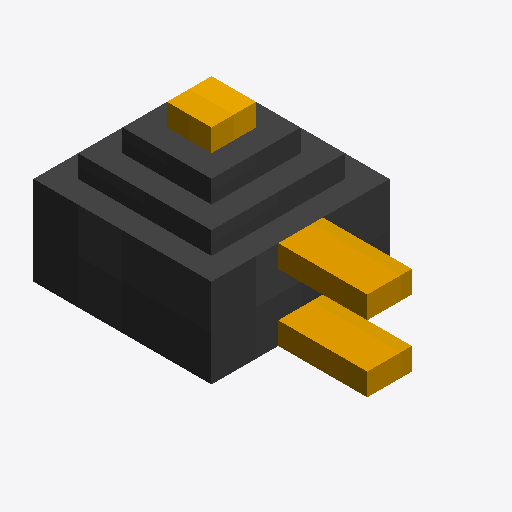
Isometric view (azimuth 45°, elevation 35.3°) of a Minecraft model made of 9 cuboids, textured from the same repository.
Parts seen in each view (by area): element 4, element 5, element 6, element 9, element 8, element 7.
Part boxes in pixels (bbox=[...]): element 4: bbox=[33, 153, 389, 383]; element 5: bbox=[78, 128, 344, 255]; element 6: bbox=[122, 102, 300, 204]; element 9: bbox=[278, 295, 411, 396]; element 8: bbox=[278, 218, 411, 319]; element 7: bbox=[167, 76, 255, 152].
Bounding box in the file's own units: 8 × 10 × 12.